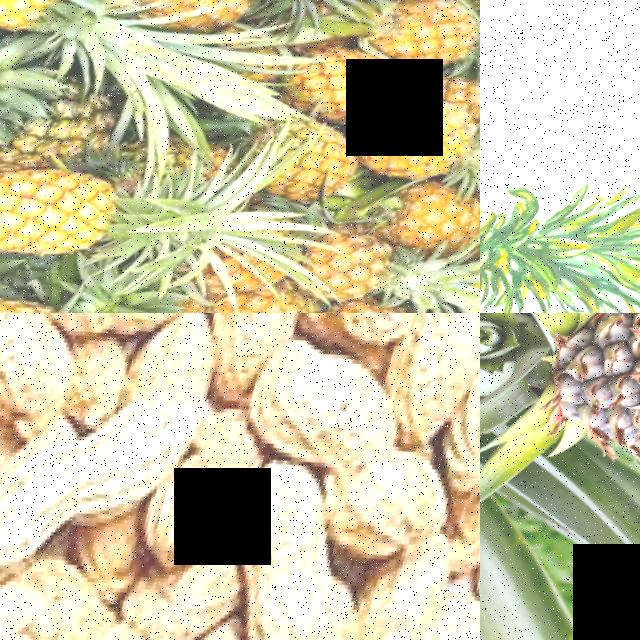peanuts: (241, 333, 415, 501), (225, 461, 359, 621), (0, 425, 114, 610), (326, 448, 467, 584), (379, 313, 480, 449), (328, 571, 466, 640), (41, 313, 205, 356), (185, 313, 325, 356)
pineapple: (0, 151, 180, 284), (537, 313, 640, 527), (480, 142, 591, 313), (0, 49, 132, 191), (343, 94, 480, 211), (346, 179, 480, 286), (349, 0, 480, 96), (0, 0, 95, 48)
